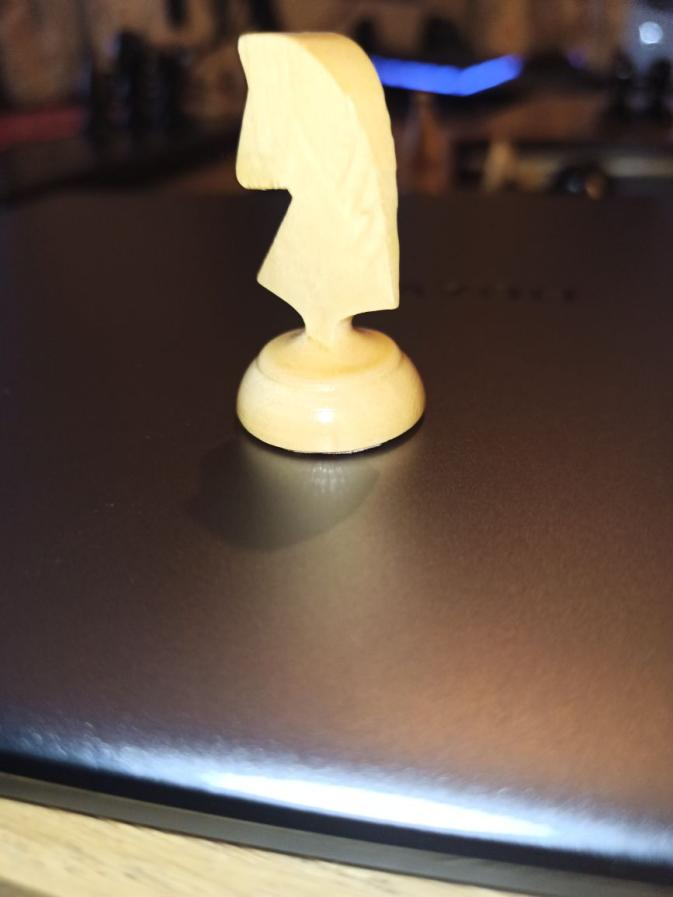wknight: (231, 31, 427, 457)
